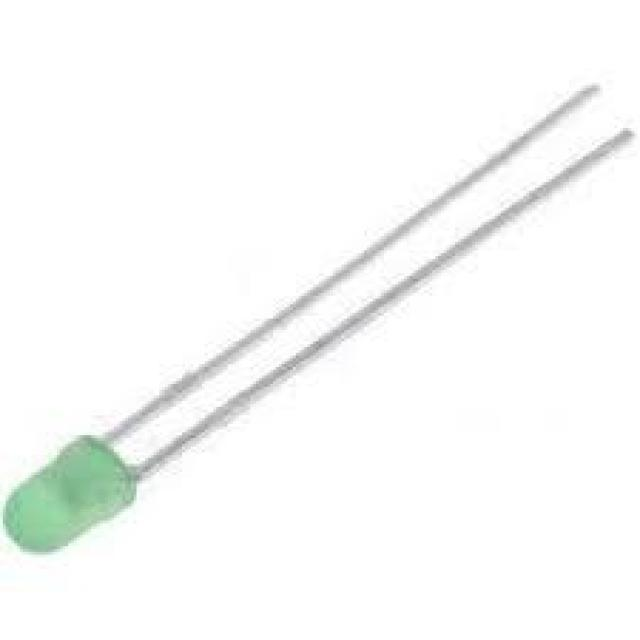Led: (4, 87, 611, 551)
